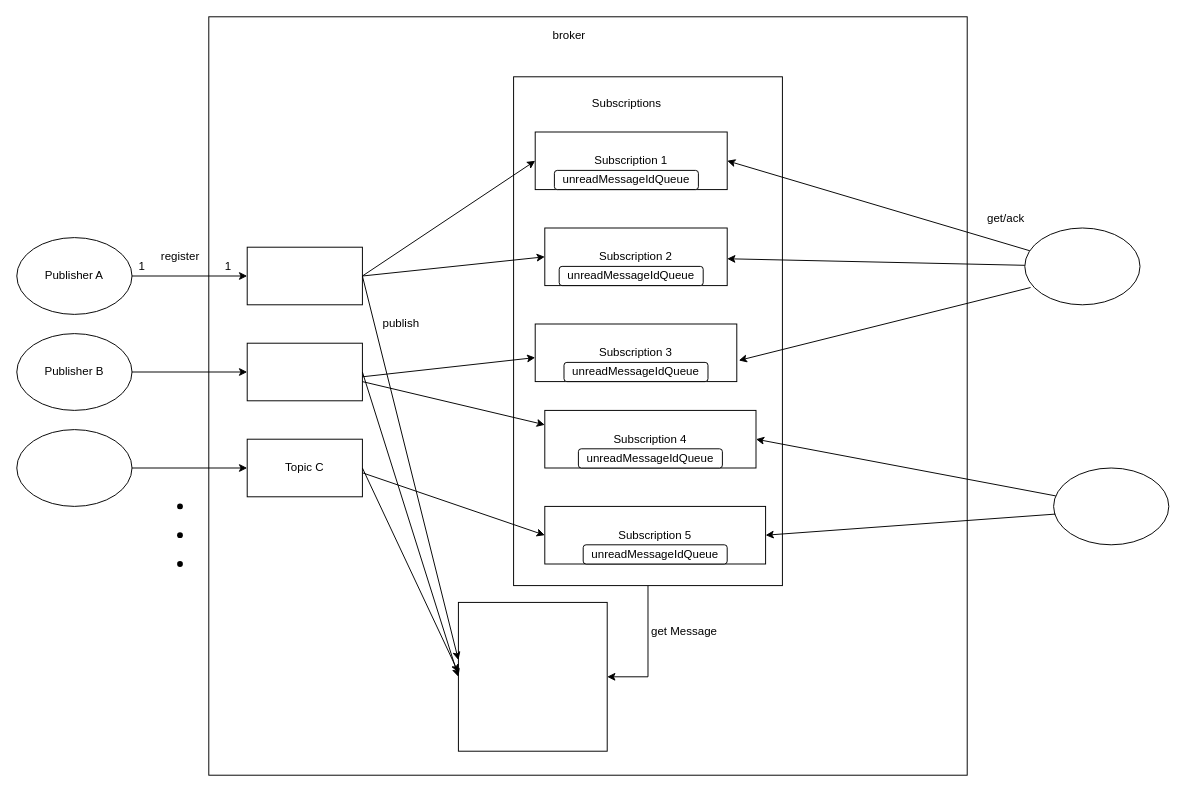
Image size: 1186x792. Some labels were removed from this diagram. Here are the shapes that lost their labels. From the top down, the centre of each, then its label:
At (x=304, y=275): "Topic A".
At (x=1082, y=266): "Subscriber A".
At (x=304, y=371): "Topic B".
At (x=74, y=467): "Publisher C".
At (x=1111, y=506): "Subscriber B".
At (x=532, y=676): "messageWarehouse (messageId, contents)".
